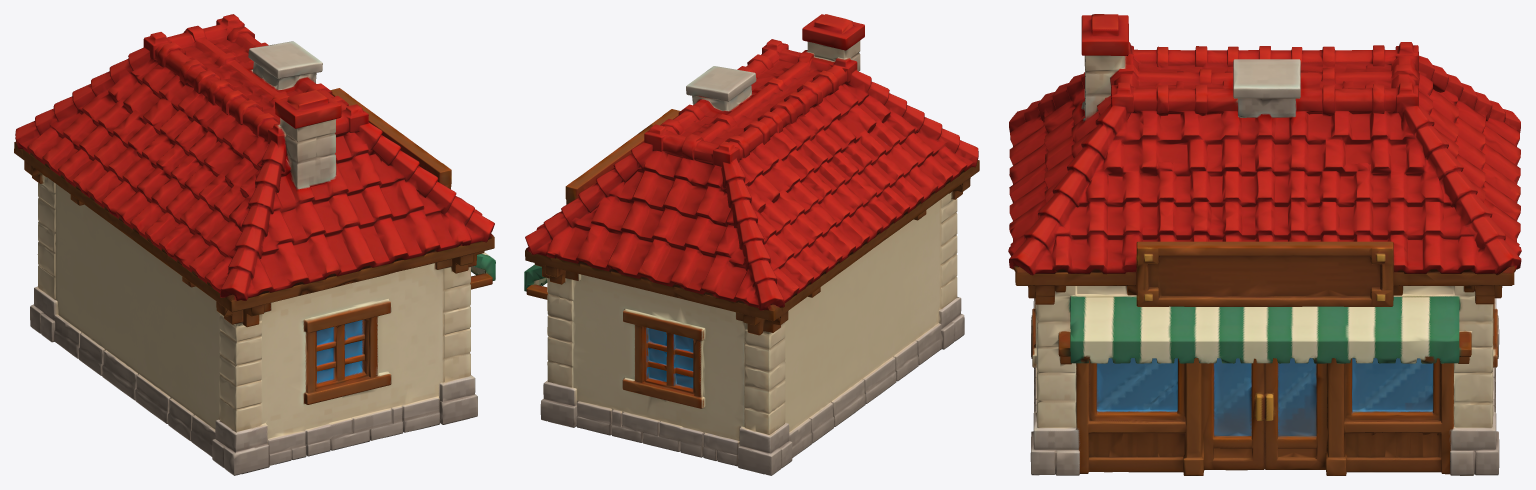
Rendered from shop-1-detail.glb.
3 views of the same model, side by side, from view 1: azimuth 30°, elevation 25°; view 2: azimuth 150°, elevation 25°; view 3: azimuth 270°, elevation 25° (orthographic). The views are drawn at different scales.
Parts seen in each view (by area): view 1: tripo_node_51251bb7-02aa-4b56-8b38-85046b758c67; view 2: tripo_node_51251bb7-02aa-4b56-8b38-85046b758c67; view 3: tripo_node_51251bb7-02aa-4b56-8b38-85046b758c67.
Boxes of the visible parts, x1,y1,x2,y2 form: tripo_node_51251bb7-02aa-4b56-8b38-85046b758c67: [14, 14, 495, 475]; tripo_node_51251bb7-02aa-4b56-8b38-85046b758c67: [524, 14, 979, 475]; tripo_node_51251bb7-02aa-4b56-8b38-85046b758c67: [1008, 14, 1521, 475].
Size of the model in its own units: 2.78 by 3 by 3.69.
Materials: 1 (1 with a texture image).
